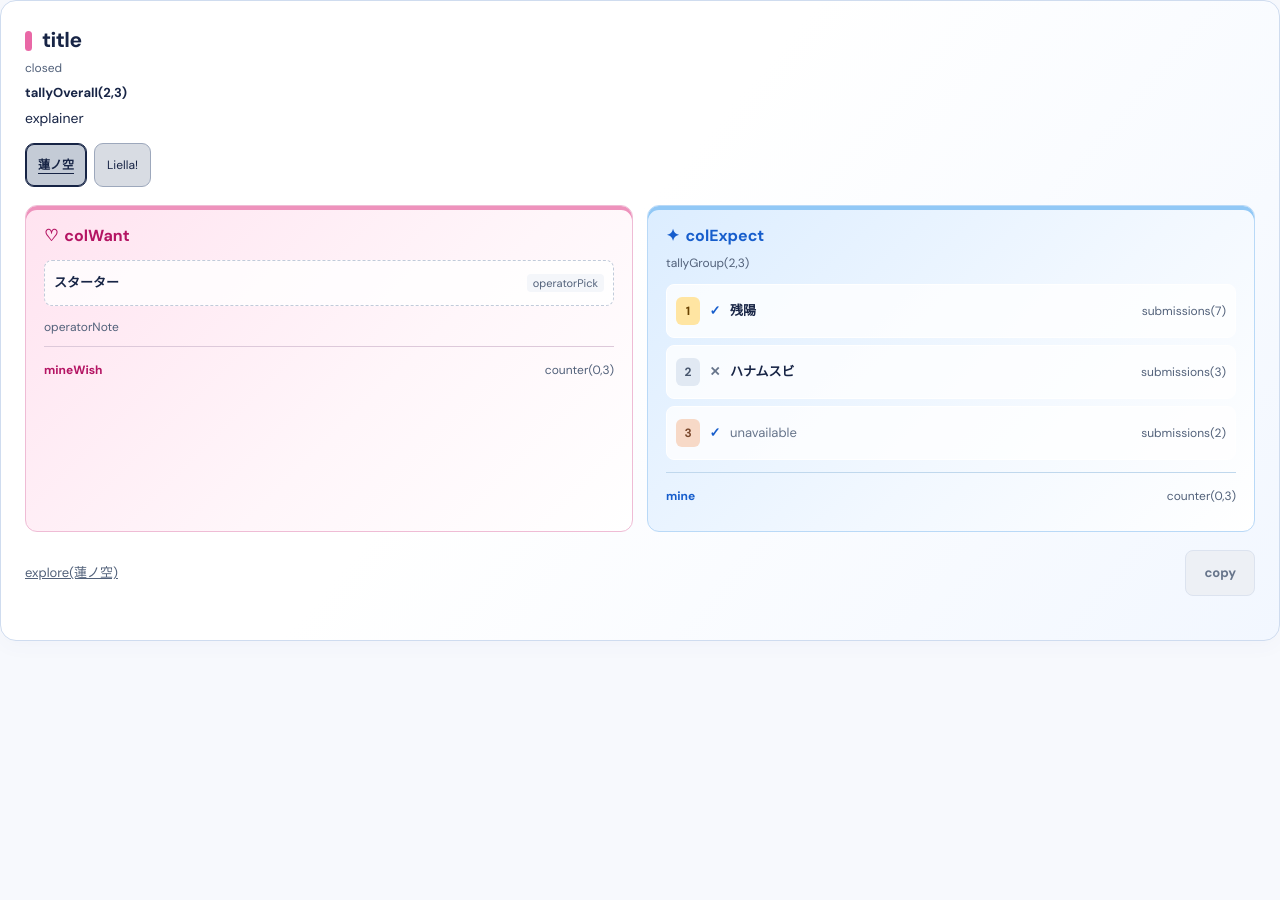
Test: <FanBoardSection> post-show result mode (n15) › a group nobody picked keeps its starters, ungraded, with no N of K line
The image size is (1280, 900).
Check: the text "tallyOverall(2,3)" is shown, box [25,84,127,100]
Click the tab "Liella!": (122, 165) [94,143,151,187]
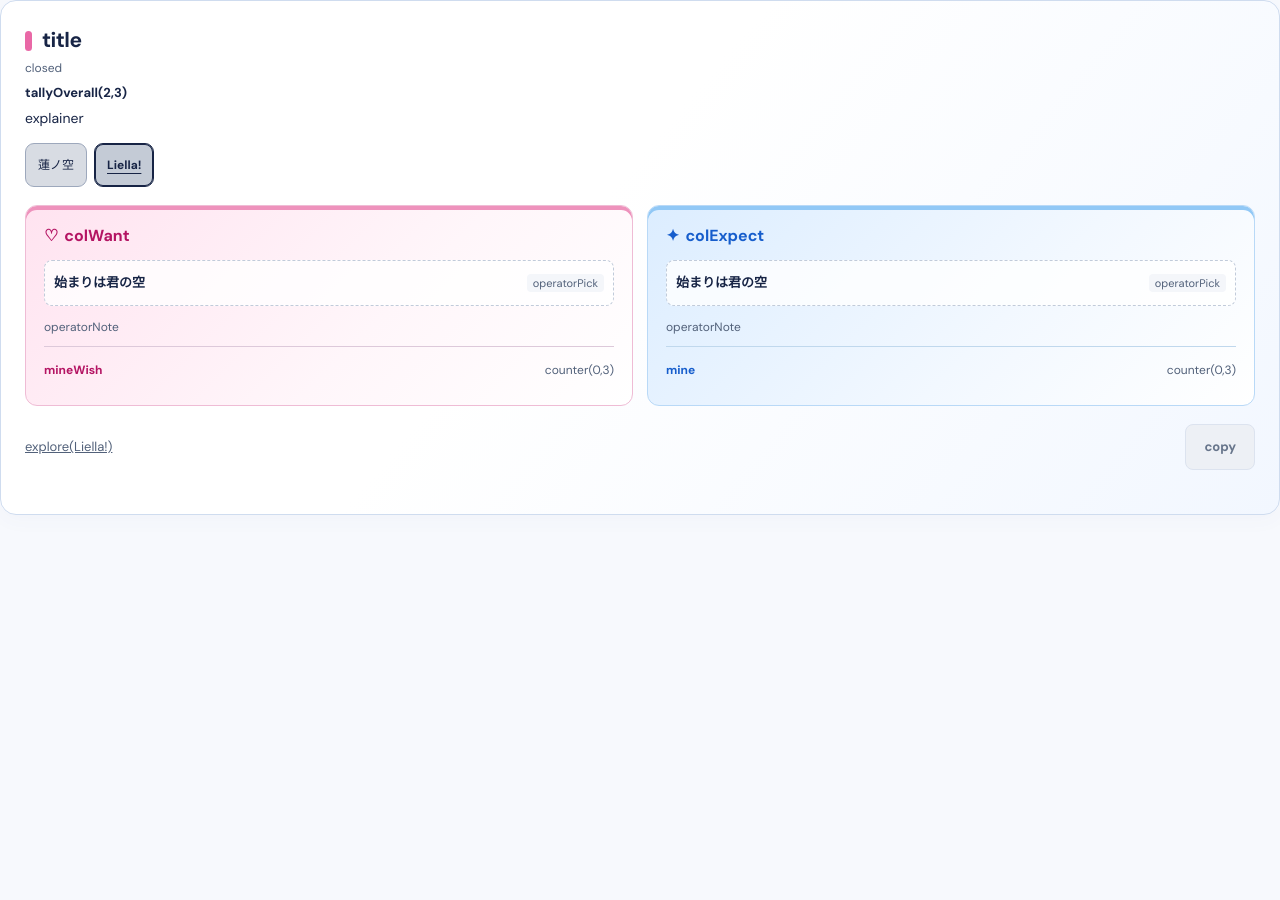
Check: the list item with test id "board-starter" below "colExpect" shows "始まりは君の空", box [676,273,1140,292]
Check: the text with test id "board-tally-group" is gone
Check: the picture labelled "tallyPlayed" is gone
